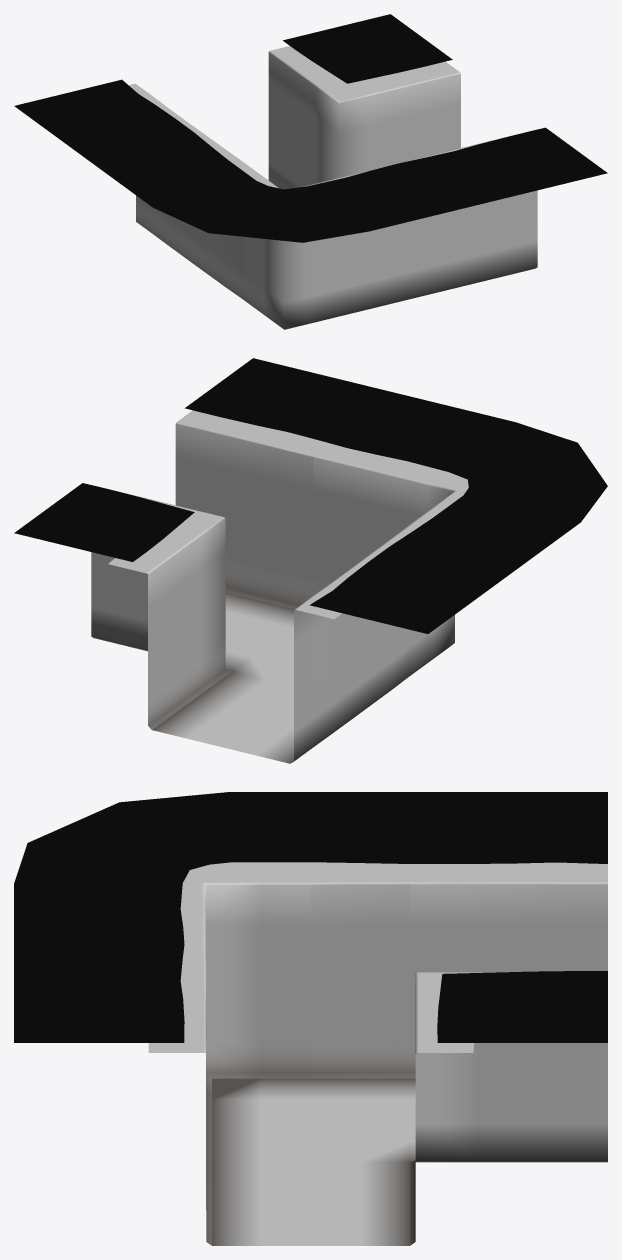
The model's file is blockD.fbx.
3 views of the same model, one above another, from view 1: azimuth 30°, elevation 25°; view 2: azimuth 150°, elevation 25°; view 3: azimuth 270°, elevation 25° (orthographic). The views are drawn at different scales.
Parts seen in each view (by area): view 1: polySurface22, polySurface21, blockA11, pPlane1; view 2: polySurface21, polySurface22, blockA11, polySurface23, pPlane1; view 3: polySurface21, polySurface22, polySurface23, blockA11, pPlane1.
Boxes of the visible parts, x1,y1,x2,y2 form: polySurface22: (14, 79, 607, 242); polySurface21: (129, 83, 537, 329); blockA11: (268, 46, 460, 189); pPlane1: (283, 14, 452, 83); polySurface21: (175, 410, 468, 762); polySurface22: (185, 358, 607, 633); blockA11: (91, 485, 231, 729); polySurface23: (152, 592, 294, 763); pPlane1: (14, 483, 194, 561); polySurface21: (148, 862, 607, 1245); polySurface22: (14, 792, 607, 1042); polySurface23: (212, 1078, 415, 1245); blockA11: (410, 972, 607, 1245); pPlane1: (437, 971, 607, 1042).
Bounding box in the file's own units: 900 × 339 × 900.
